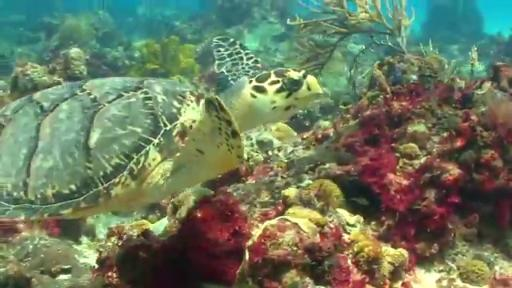Fish: (0, 37, 322, 219)
